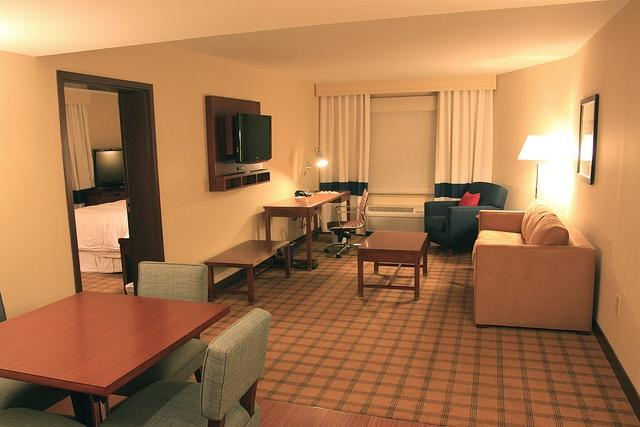AIO PC-Monitor-TV: (233, 111, 274, 164)
Kursi: (94, 305, 270, 426)
Meja: (262, 188, 351, 271), (201, 238, 290, 304), (355, 230, 427, 300)
